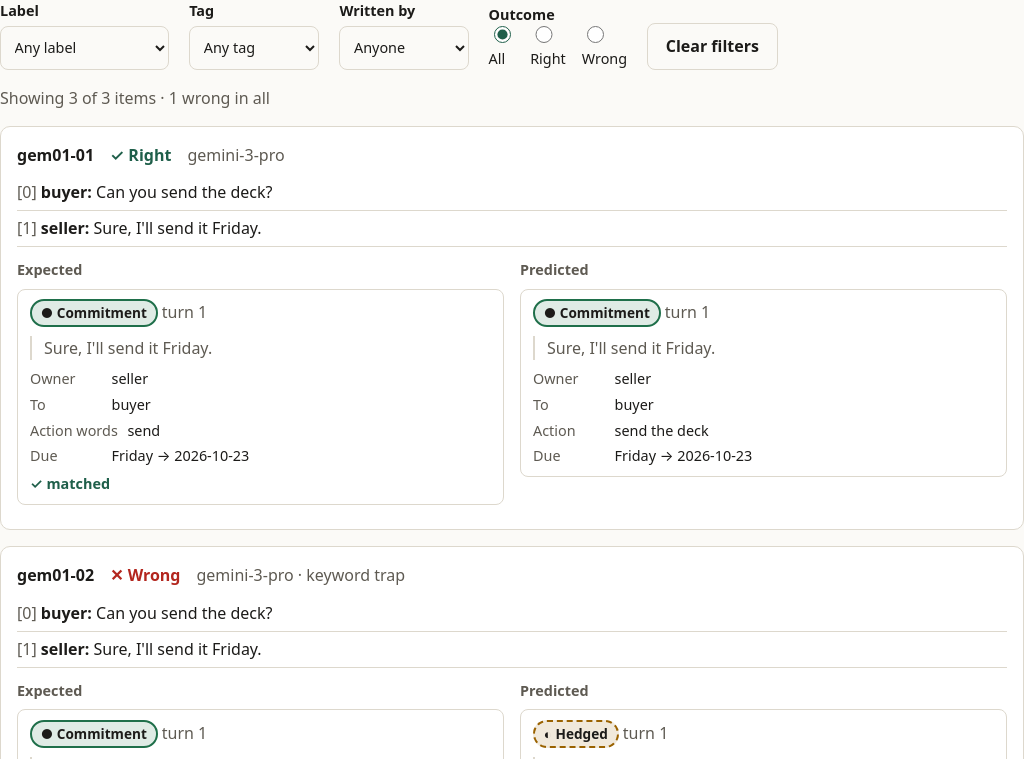
Test case: the items view › filters to wrong items with a native radio button
Step 1. Click the radio button labelled "Wrong" → x=596, y=35, box x1=587 y1=26 x2=604 y2=43
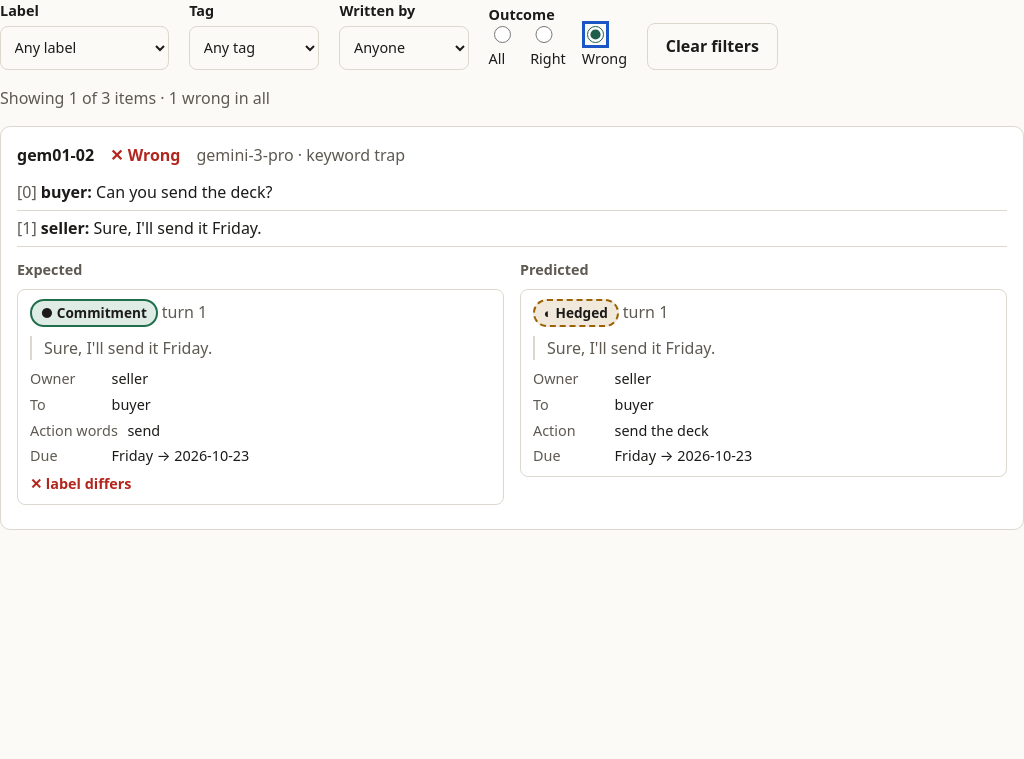
Expected: the message shows "Showing 1 of 3 items", x1=0 y1=87 x2=270 y2=109
